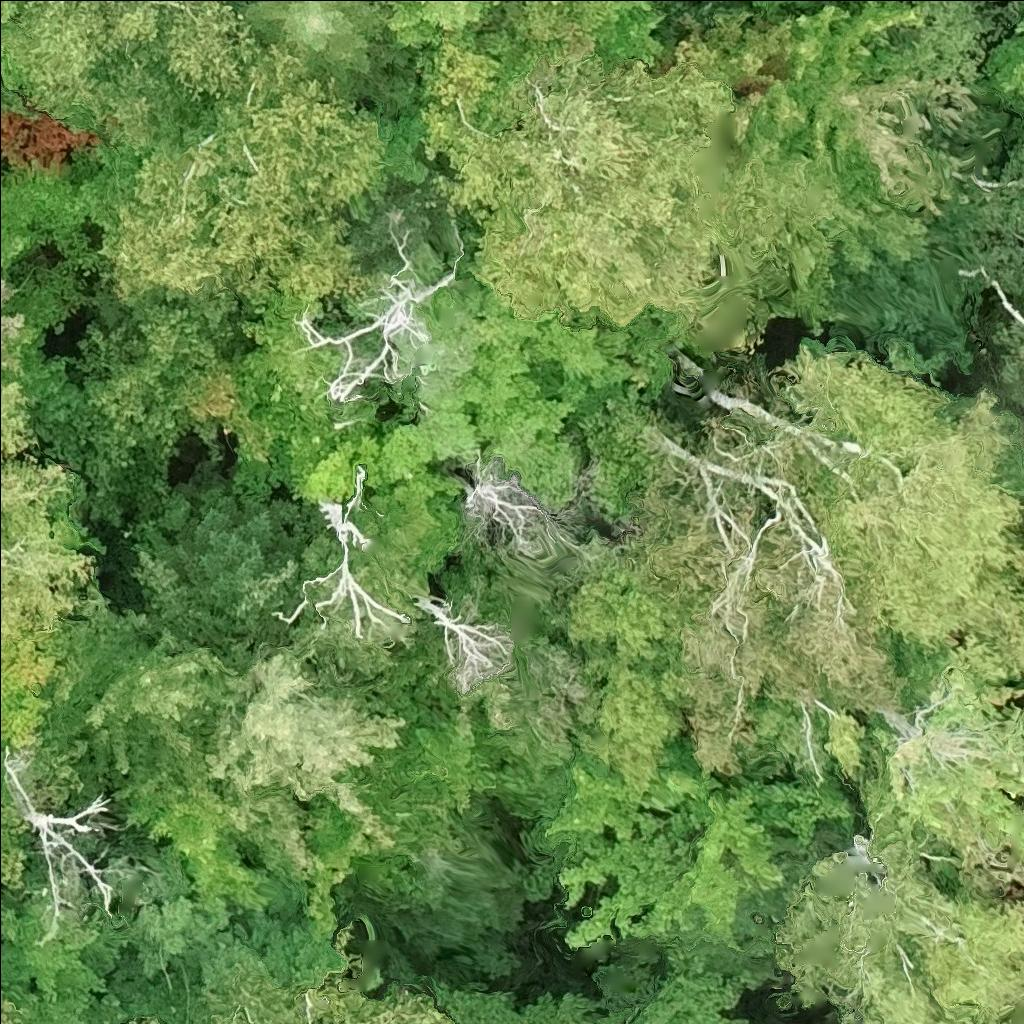crown: (415, 23, 763, 332), (100, 44, 385, 301), (0, 0, 260, 156), (240, 0, 418, 107), (386, 0, 670, 65), (0, 760, 115, 915), (0, 375, 70, 543), (0, 537, 91, 662), (0, 272, 41, 377)
